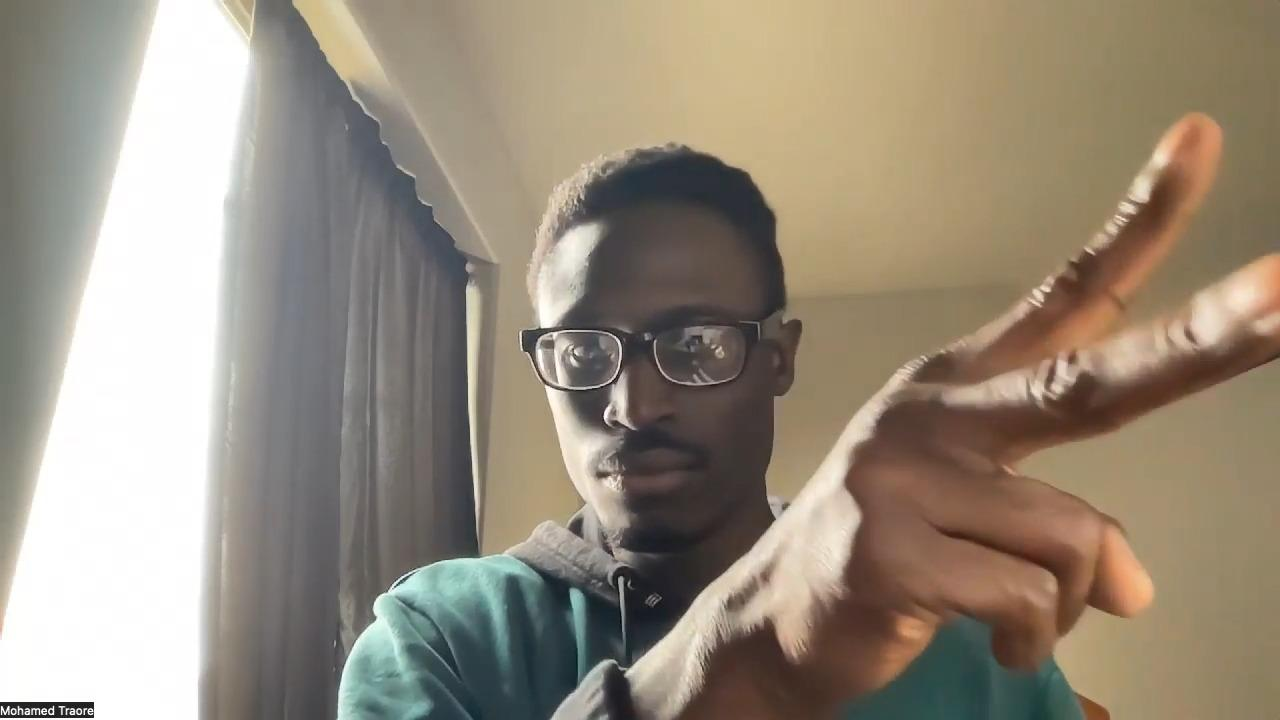Scissors: (742, 110, 1280, 697)
